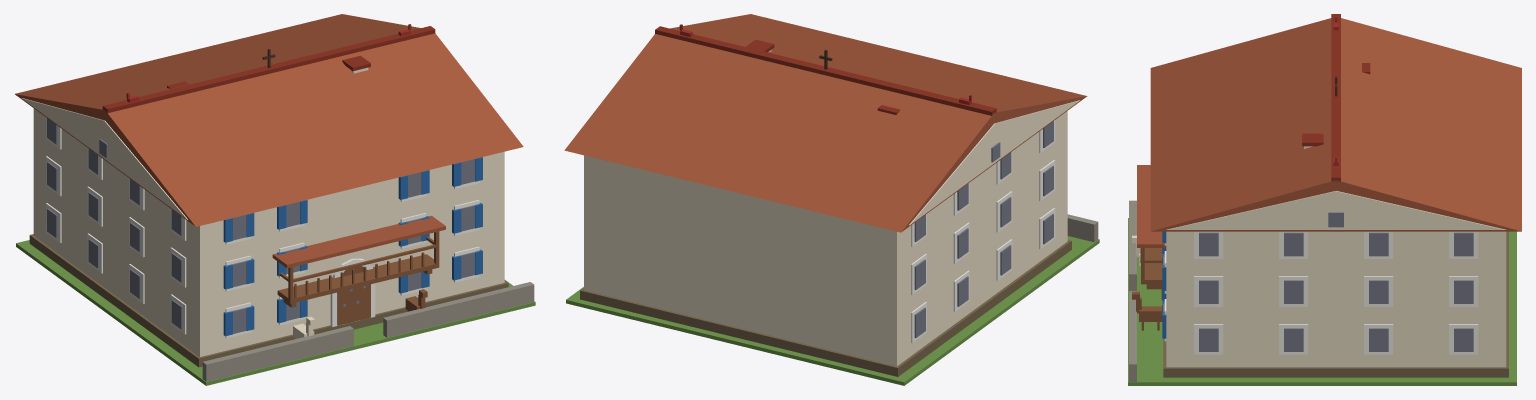
File: house-2x2-3f-andean-a.glb
The picture shows the model from 3 angles, left to right: view 1: azimuth 30°, elevation 25°; view 2: azimuth 150°, elevation 25°; view 3: azimuth 270°, elevation 25°; orthographic projection. The views are drawn at different scales.
Visible parts, largest first — view 1: house-2x2-3f-andean-a; view 2: house-2x2-3f-andean-a; view 3: house-2x2-3f-andean-a.
Part boxes in pixels (left/top/right/bottom): house-2x2-3f-andean-a: left=15, top=14, right=535, bottom=385; house-2x2-3f-andean-a: left=564, top=14, right=1099, bottom=385; house-2x2-3f-andean-a: left=1128, top=14, right=1521, bottom=385.
Size of the model in its own units: 2.01 by 1.28 by 2.01.
Materials: 1 (1 with a texture image).
